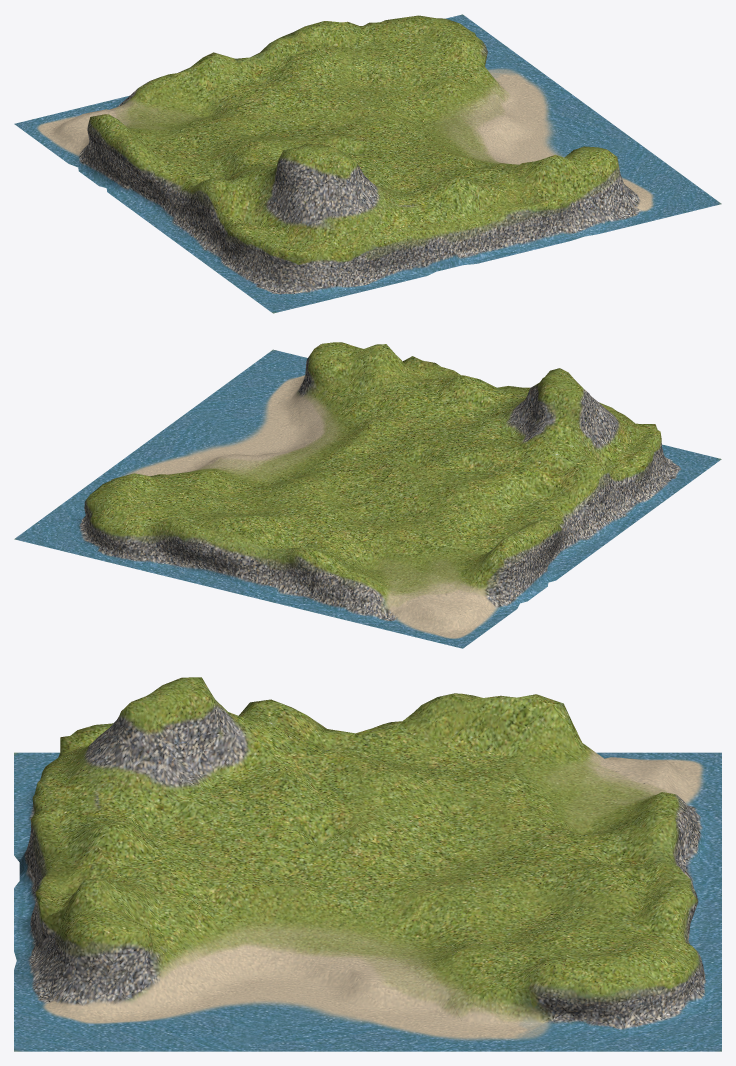
The model's file is terrain2.dae.
3 renders of one model, top to bottom at view 1: azimuth 30°, elevation 25°; view 2: azimuth 150°, elevation 25°; view 3: azimuth 270°, elevation 25°, orthographic. The views are drawn at different scales.
Parts seen in each view (by area): view 1: Plane; view 2: Plane; view 3: Plane.
Boxes of the visible parts, bbox=[...] form: Plane: bbox=[14, 14, 721, 313]; Plane: bbox=[14, 342, 721, 648]; Plane: bbox=[14, 677, 721, 1051].
Size of the model in its own units: 2000 by 2000 by 413.
1 material, 1 textured.
